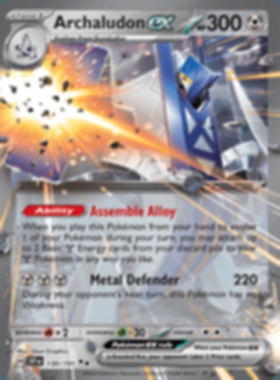Archaludon_ex: (0, 0, 280, 380)
